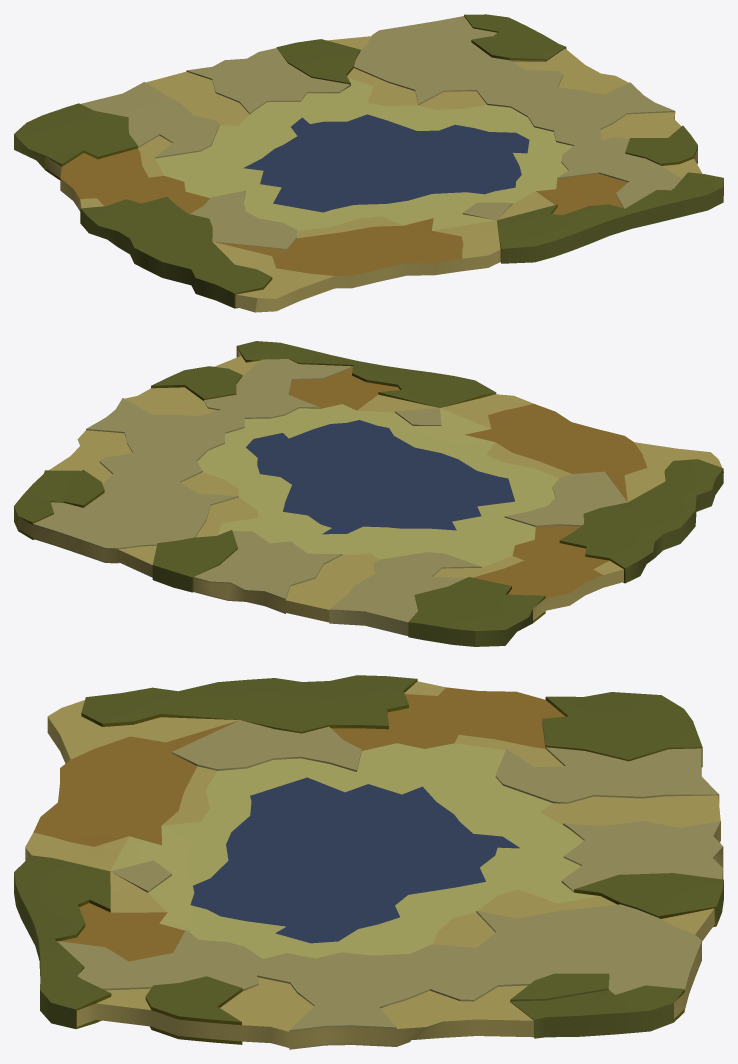
The model's file is Savannah.fbx.
3 views of the same model, one above another, from view 1: azimuth 30°, elevation 25°; view 2: azimuth 150°, elevation 25°; view 3: azimuth 270°, elevation 25° (orthographic). The views are drawn at different scales.
Parts seen in each view (by area): view 1: pCube33; view 2: pCube33; view 3: pCube33.
Boxes of the visible parts, bbox=[...] form: pCube33: bbox=[14, 14, 723, 312]; pCube33: bbox=[14, 341, 723, 646]; pCube33: bbox=[14, 675, 723, 1049].
Bounding box in the file's own units: 46.26 × 1.6 × 39.17.
